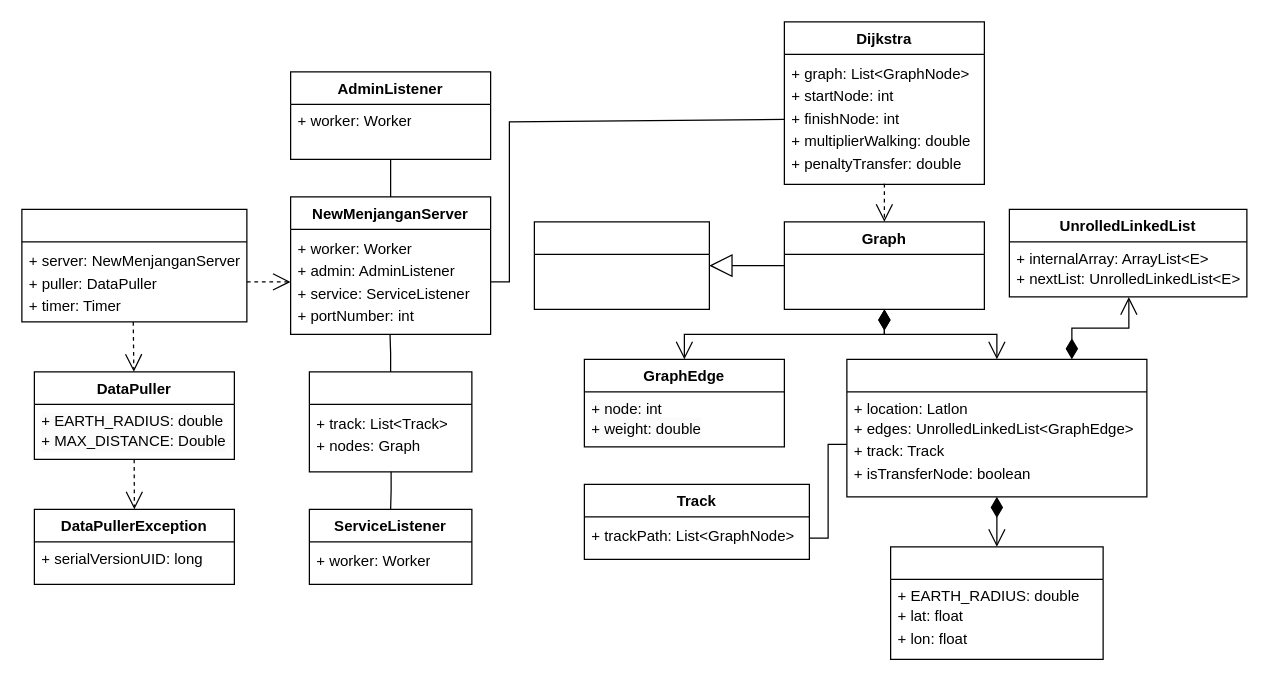
Some shapes in this 1269 by 685 pixel diagram are drawn without their labels. The shapes that lost their labels are listed below. From the top down, each one's box as (x1, y1, x2, y2) in pixels, then its label:
(21, 208, 247, 322): Main
(533, 221, 709, 309): ArrayList
(308, 371, 472, 472): Worker
(846, 358, 1147, 497): GraphNode
(889, 546, 1103, 659): Latlon
